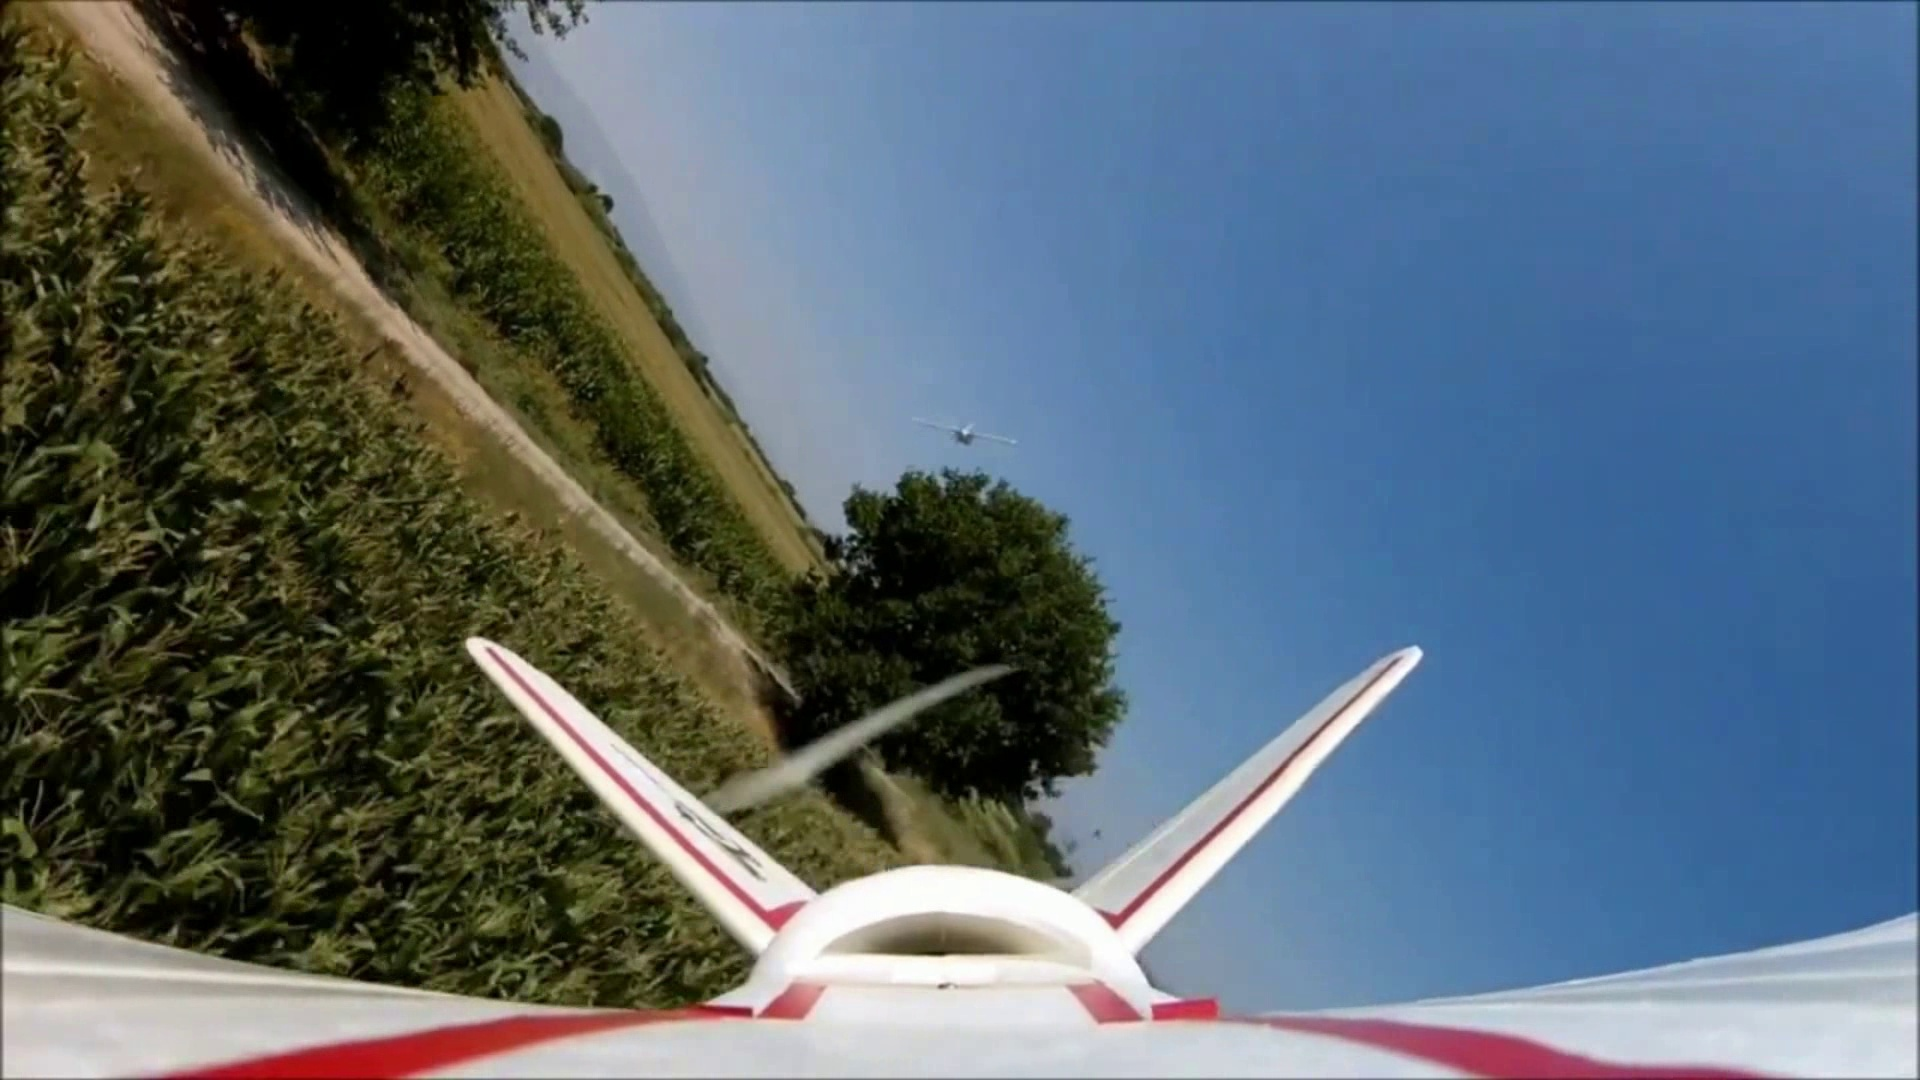airplane: (7, 636, 1907, 1071)
